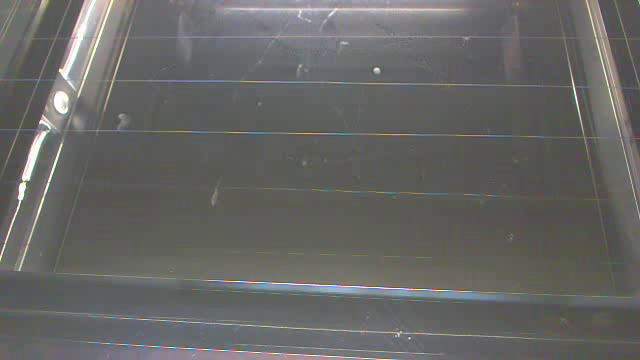alpha: (208, 169, 225, 210), (112, 109, 132, 135), (369, 63, 384, 80)
